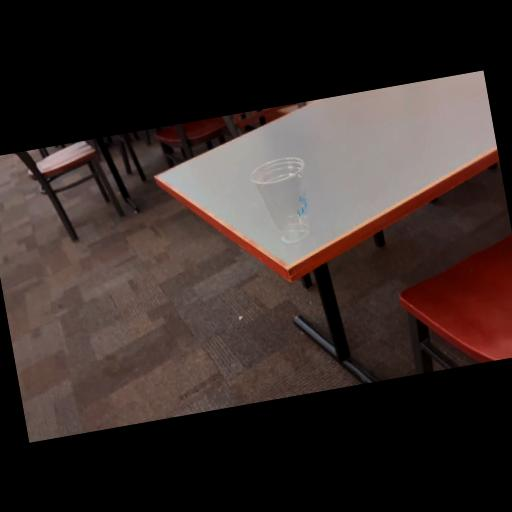lp_plastic_cup: (246, 152, 318, 251)
